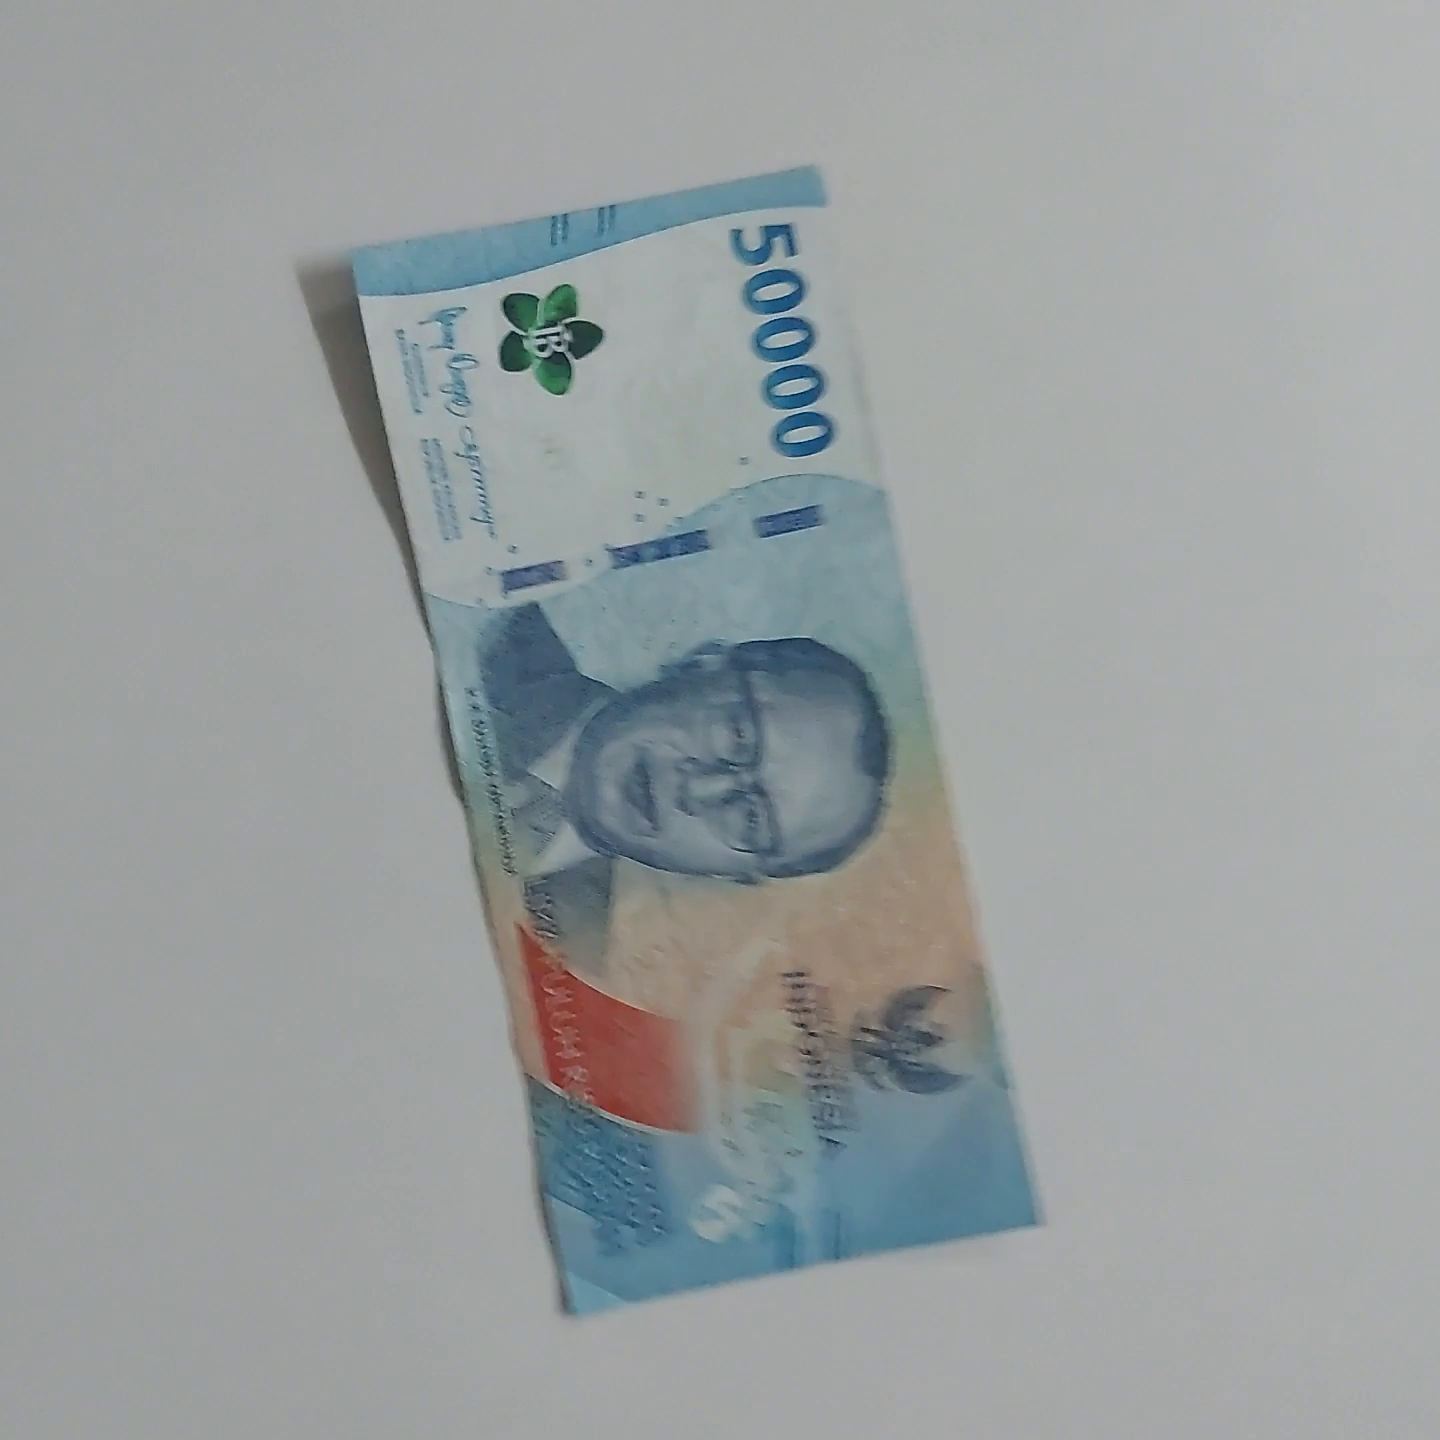50k: (336, 162, 1118, 1283)
